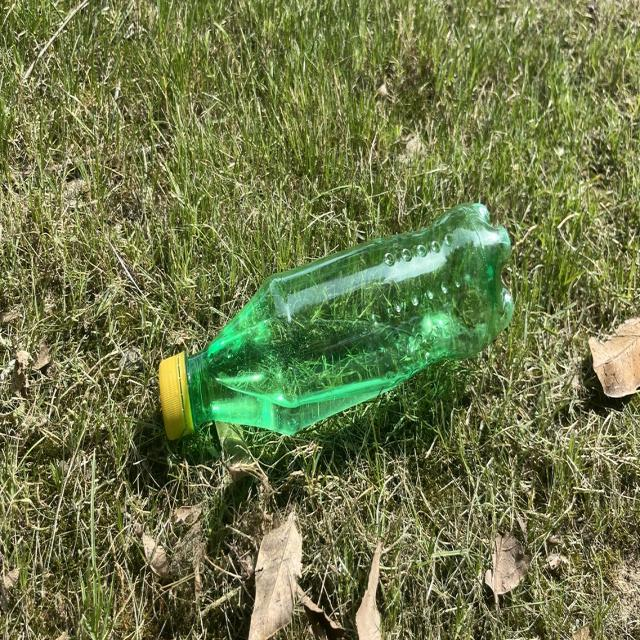low: (159, 205, 513, 438)
